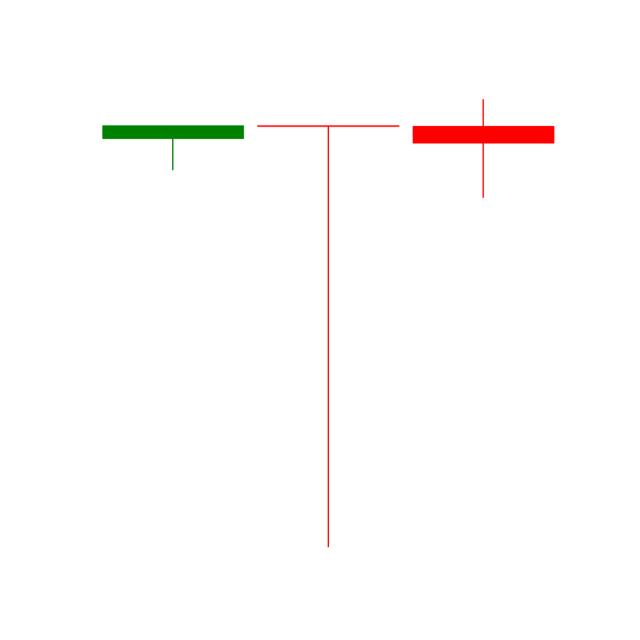Dragonfly Doji: (249, 121, 406, 552)
